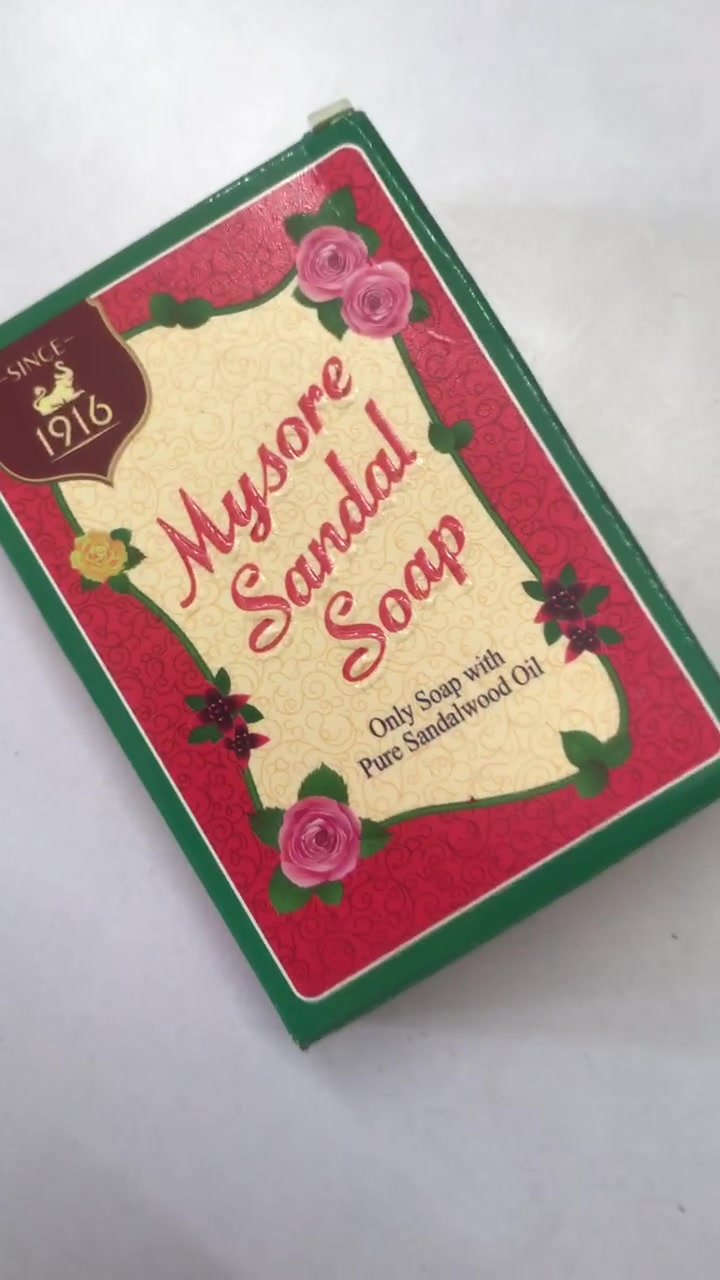mysore sandal soap: (5, 125, 720, 1044)
